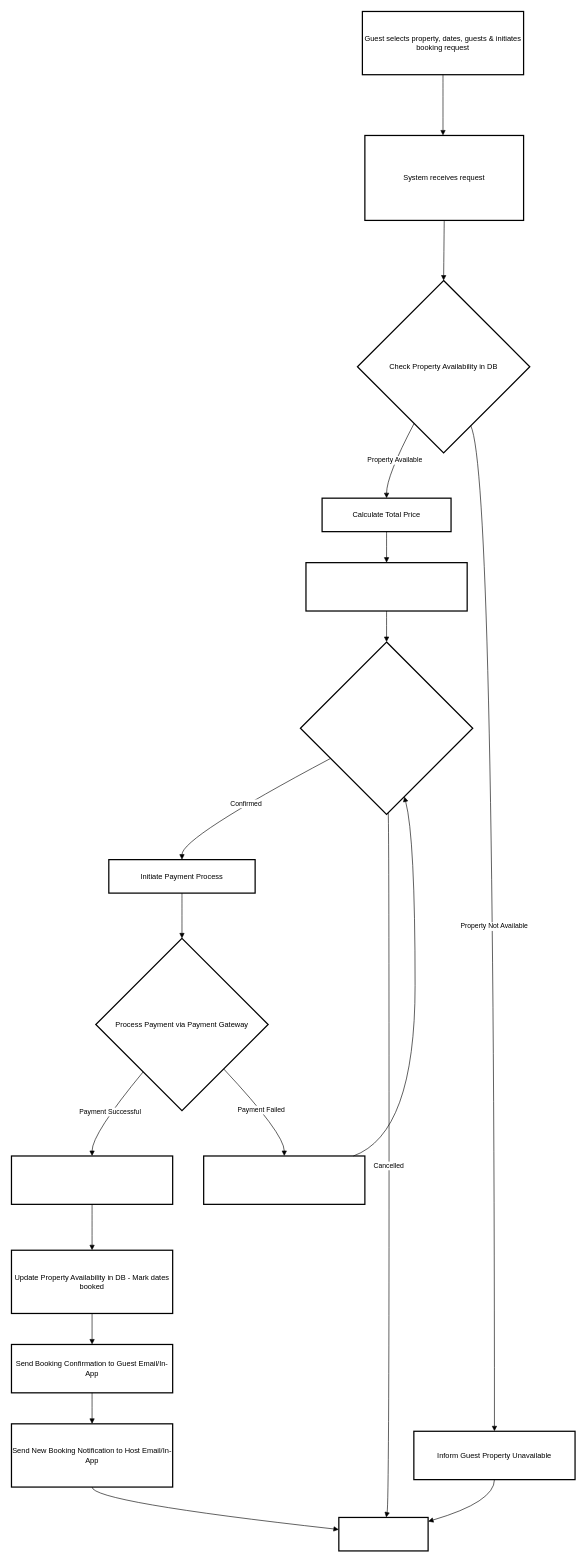
Some shapes in this 586 by 1562 pixel diagram are drawn without their labels. Each missing label, with the centre of its shape:
"Create Booking Record in DB - Status Confirmed" belongs at (x=92, y=1180).
"Display Booking Summary & Price to Guest" belongs at (x=386, y=586).
"End Process" belongs at (x=383, y=1534).
"Guest Confirms to Book & Proceed to Payment" belongs at (x=386, y=728).
"Inform Guest Payment Failed" belongs at (x=284, y=1180).
